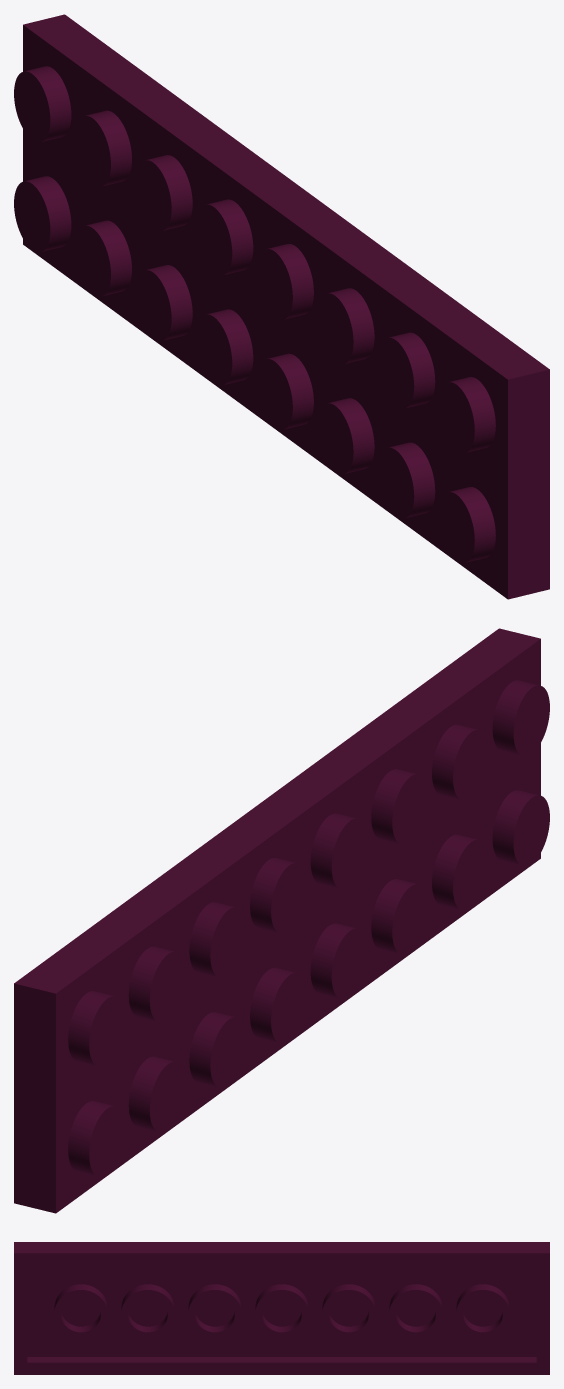
Rendered from plate2*8_magenta.obj.
3 renders of one model, top to bottom at view 1: azimuth 30°, elevation 25°; view 2: azimuth 150°, elevation 25°; view 3: azimuth 270°, elevation 25°, orthographic. The views are drawn at different scales.
Bounding box in the file's own units: 12 × 40 × 160.
